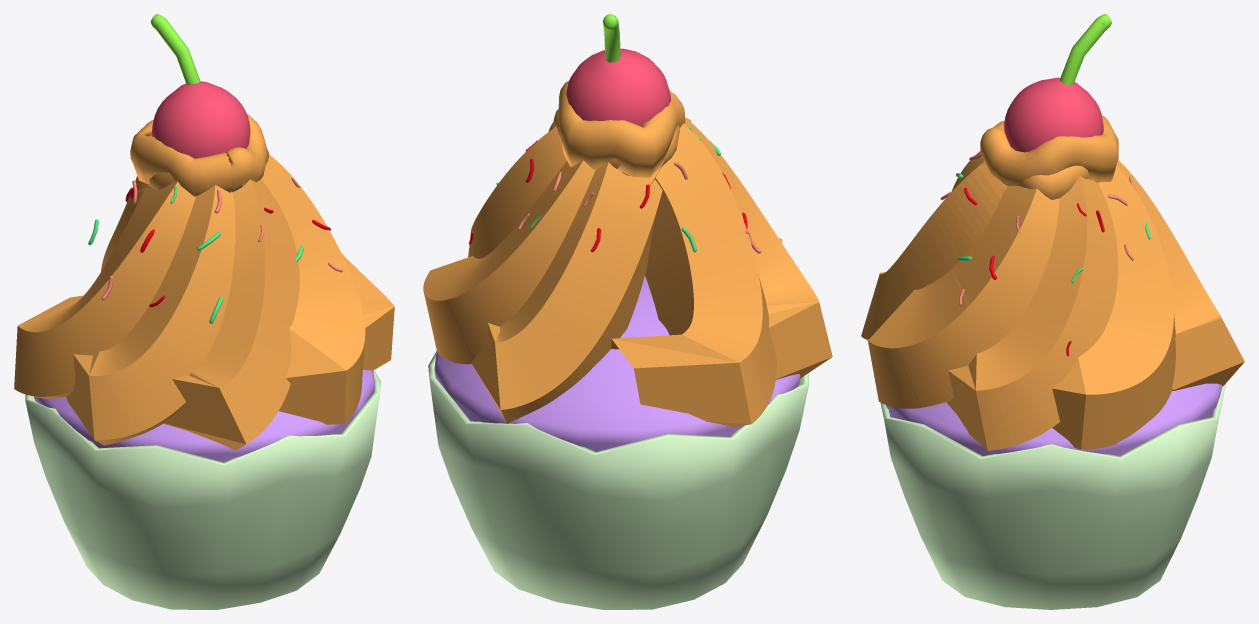
Rendered from ToyObject_117.fbx.
The picture shows the model from 3 angles, left to right: view 1: azimuth 30°, elevation 25°; view 2: azimuth 150°, elevation 25°; view 3: azimuth 270°, elevation 25°; orthographic projection. The views are drawn at different scales.
Parts seen in each view (by area): view 1: 1.011; view 2: 1.011; view 3: 1.011.
Part boxes in pixels (x1,y1,x2,y2): 1.011: (14, 14, 394, 609); 1.011: (423, 14, 832, 609); 1.011: (861, 14, 1244, 609).
Size of the model in its own units: 0.142 by 0.2318 by 0.148.
